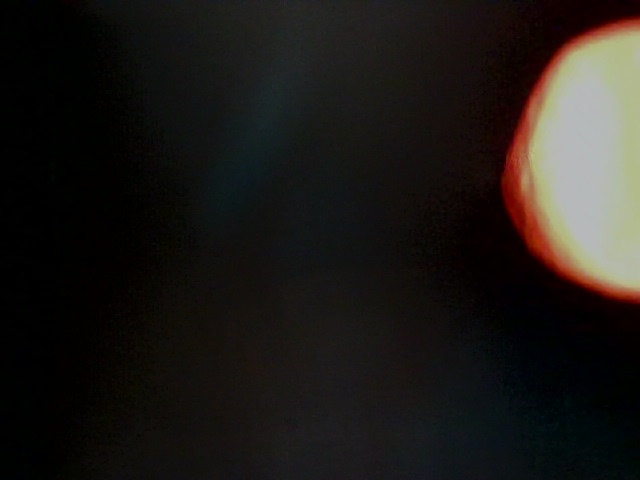CYLJ: (249, 356, 372, 459)
